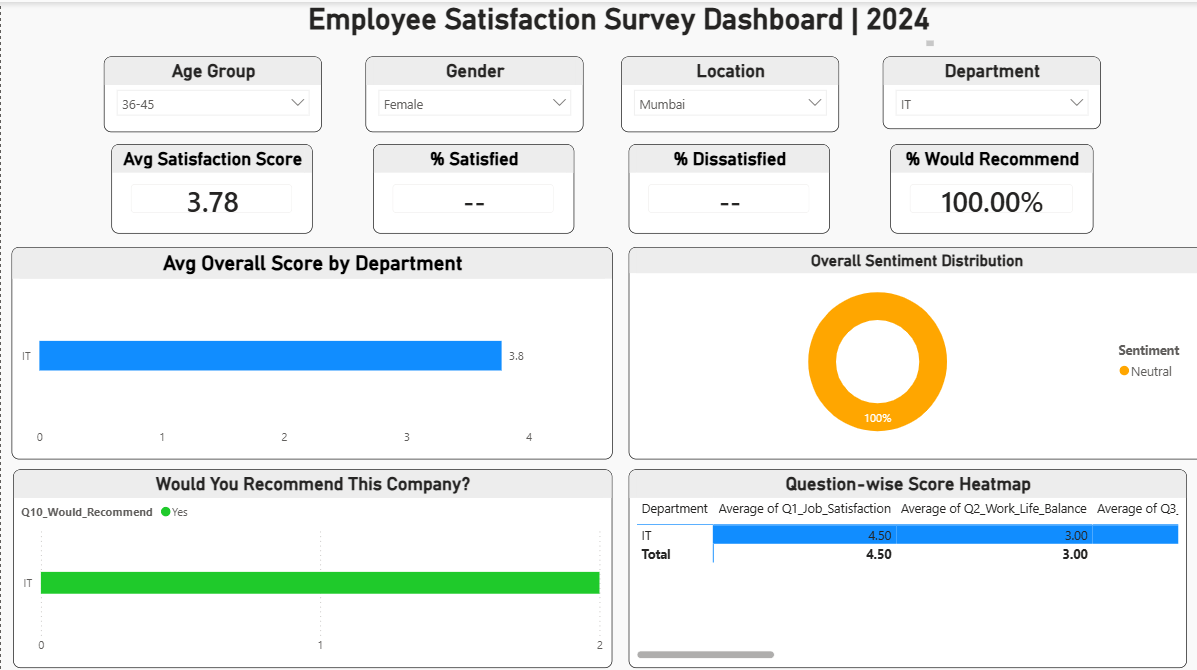

What the dashboard file says about the page in this screenshot:
{"tool":"powerbi","page":{"name":"Page 1","canvas":[1280,720],"ordinal":0},"visuals":[{"type":"cardVisual","title":"Avg Satisfaction Score","fields":{"Data":["SurveyData.Avg Overall Score"]},"box":[117.7,151.6,214.5,95.2],"z":0},{"type":"cardVisual","title":"% Dissatisfied","fields":{"Data":["SurveyData.% Dissatisfied"]},"box":[667.7,151.6,214.5,95.2],"z":1000},{"type":"cardVisual","title":"% Satisfied","fields":{"Data":["SurveyData.% Satisfied"]},"box":[396.8,151.6,214.5,95.2],"z":2000},{"type":"cardVisual","title":"% Would Recommend","fields":{"Data":["SurveyData.% Would Recommend"]},"box":[946.8,151.6,216.1,95.2],"z":3000},{"type":"clusteredBarChart","fields":{"Category":["SurveyData.Department"],"Y":["SurveyData.Avg Overall Score"]},"box":[11.3,261.3,640.3,225.8],"z":4000},{"type":"donutChart","title":"Overall Sentiment Distribution","fields":{"Category":["SurveyData.Sentiment"],"Y":["CountNonNull(SurveyData.Employee_ID)"]},"box":[667.7,261.3,612.9,225.8],"z":5000},{"type":"barChart","title":"Would You Recommend This Company?","fields":{"Category":["SurveyData.Department"],"Y":["CountNonNull(SurveyData.Employee_ID)"],"Series":["SurveyData.Q10_Would_Recommend"]},"box":[13.2,498.1,637.7,211.3],"z":6000},{"type":"pivotTable","title":"Question-wise Score Heatmap","fields":{"Rows":["SurveyData.Department"],"Values":["Avg(SurveyData.Q1_Job_Satisfaction)","Avg(SurveyData.Q2_Work_Life_Balance)","Avg(SurveyData.Q3_Manager_Support)","Avg(SurveyData.Q4_Career_Growth)","Avg(SurveyData.Q5_Team_Collaboration)","Avg(SurveyData.Q6_Compensation_Fairness)","Avg(SurveyData.Q7_Company_Culture)","Avg(SurveyData.Q8_Remote_Work_Preference)","Avg(SurveyData.Q9_Training_Opportunities)"]},"box":[667.9,498.1,594.3,211.3],"z":7000},{"type":"slicer","title":"Department","fields":{"Values":["SurveyData.Department"]},"box":[938.7,58.1,232.3,77.4],"z":8000},{"type":"slicer","title":"Location","fields":{"Values":["SurveyData.Location"]},"box":[659.7,58.1,232.3,80.6],"z":9000},{"type":"slicer","title":"Gender","fields":{"Values":["SurveyData.Gender"]},"box":[388.7,58.1,232.3,80.6],"z":10000},{"type":"slicer","title":"Age Group","fields":{"Values":["SurveyData.Age_Group"]},"box":[109.7,58.1,232.3,80.6],"z":11000},{"type":"textbox","title":"Employee Satisfaction Survey Dashboard | 2024","box":[322.6,0,675.8,51.6],"z":11001}]}

Visuals, with their boxes in screenshot pixels (x1, y1, x2, y2), scaled from the page's 1280x720 canvas onto the 1197x670 screenshot:
"Avg Satisfaction Score" cardVisual: {"left": 110, "top": 141, "right": 311, "bottom": 230}
"% Dissatisfied" cardVisual: {"left": 624, "top": 141, "right": 825, "bottom": 230}
"% Satisfied" cardVisual: {"left": 371, "top": 141, "right": 572, "bottom": 230}
"% Would Recommend" cardVisual: {"left": 885, "top": 141, "right": 1087, "bottom": 230}
clusteredBarChart - SurveyData.Department x SurveyData.Avg Overall Score: {"left": 11, "top": 243, "right": 609, "bottom": 453}
"Overall Sentiment Distribution" donutChart: {"left": 624, "top": 243, "right": 1196, "bottom": 453}
"Would You Recommend This Company?" barChart: {"left": 12, "top": 464, "right": 609, "bottom": 660}
"Question-wise Score Heatmap" pivotTable: {"left": 625, "top": 464, "right": 1180, "bottom": 660}
"Department" slicer: {"left": 878, "top": 54, "right": 1095, "bottom": 126}
"Location" slicer: {"left": 617, "top": 54, "right": 834, "bottom": 129}
"Gender" slicer: {"left": 363, "top": 54, "right": 581, "bottom": 129}
"Age Group" slicer: {"left": 103, "top": 54, "right": 320, "bottom": 129}
"Employee Satisfaction Survey Dashboard | 2024" textbox: {"left": 302, "top": 0, "right": 934, "bottom": 48}
